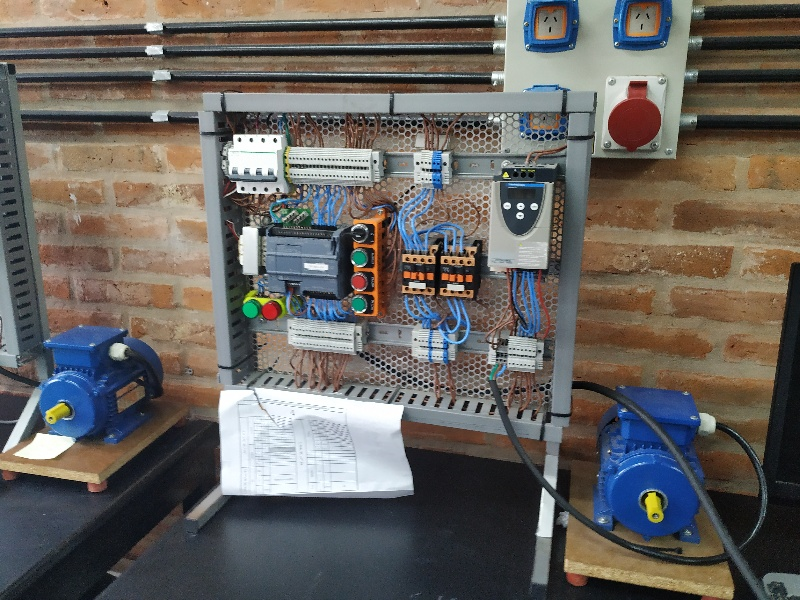Tablero 4: (206, 103, 571, 434)
